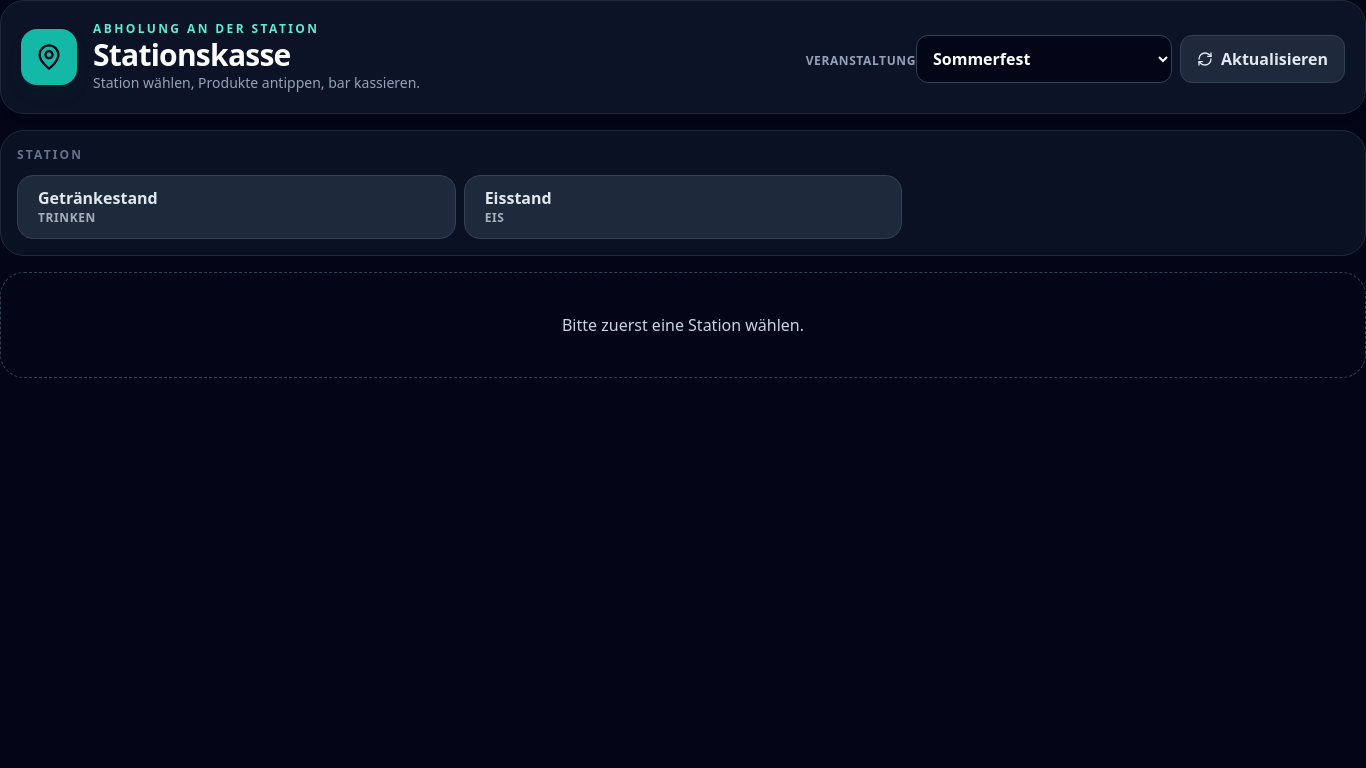
Stationskasse › blockiert den Verkauf ohne aktive Kassensitzung und bietet den Start an
What coordinates should you click on to do the following:
click the button "Getränkestand Trinken"
I would click on:
 (98, 198)
Its box is top-left (17, 175), bottom-right (456, 239).
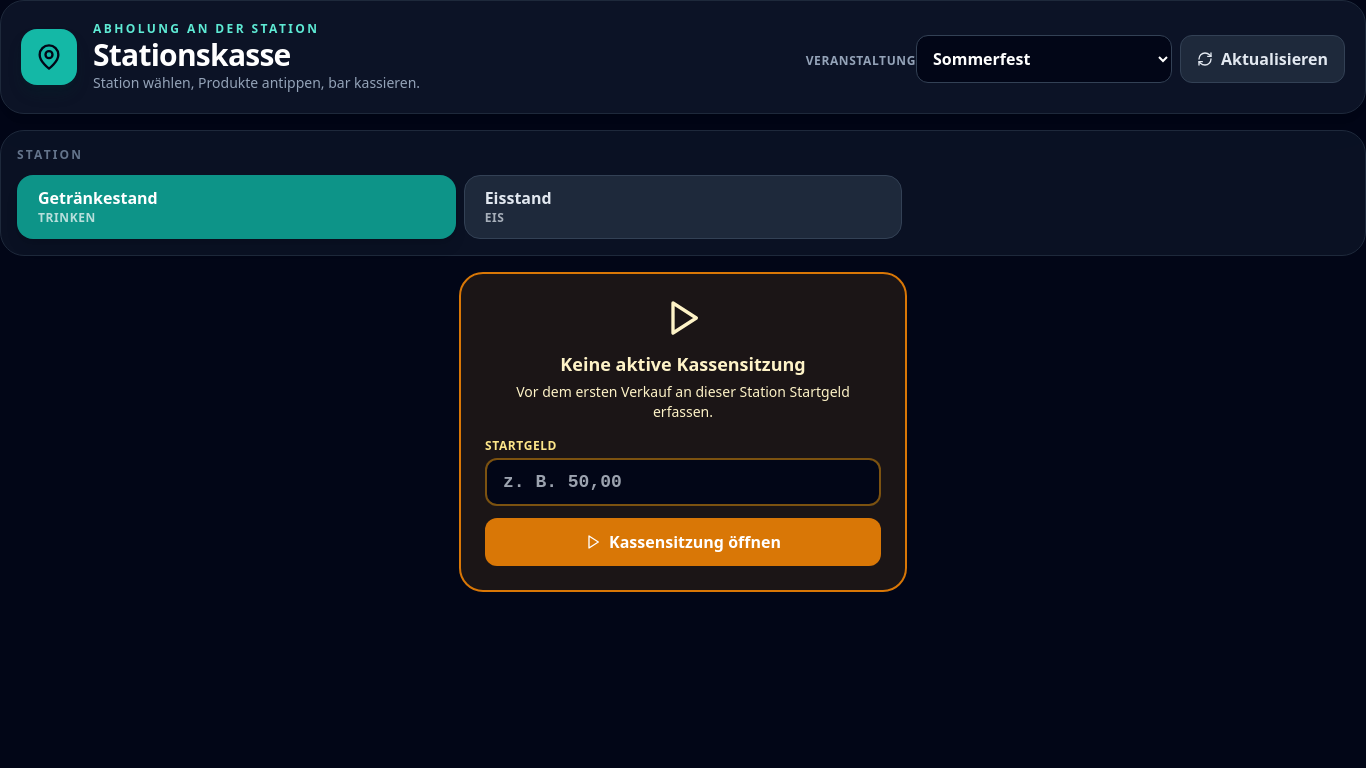
Expected: the text "Keine aktive Kassensitzung" is shown, top-left (560, 352), bottom-right (806, 376)
Expected: the button "Kassensitzung öffnen" is shown, top-left (485, 518), bottom-right (881, 566)
